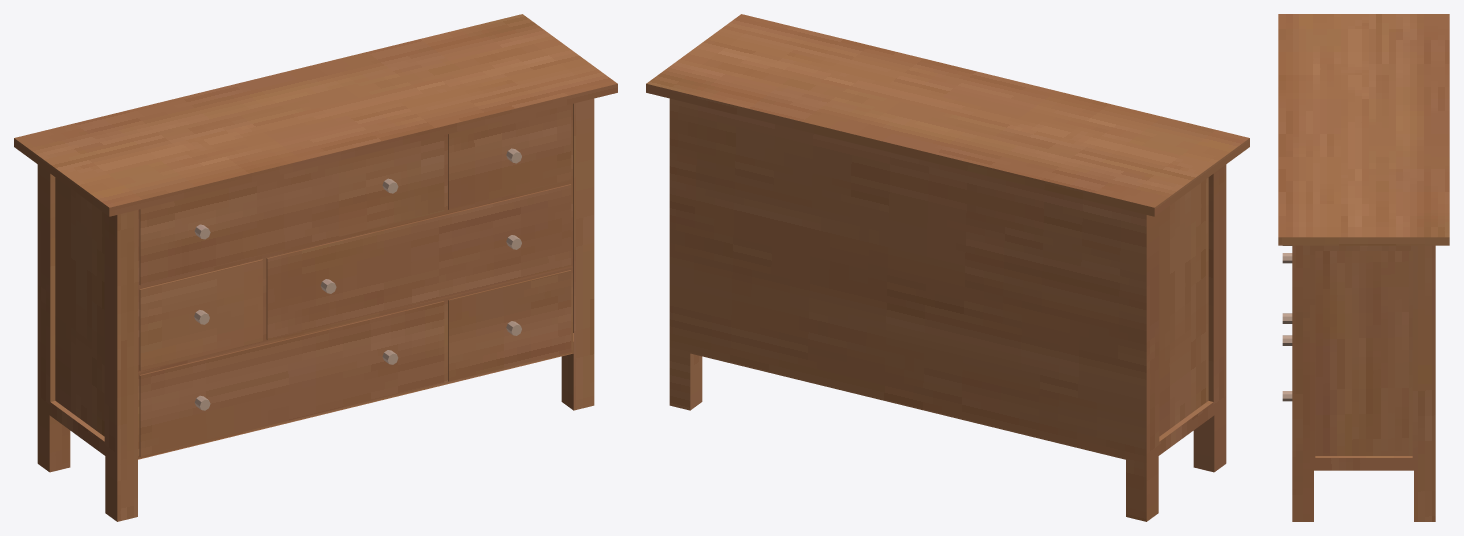
The model's file is dresser-webp.glb.
3 views of the same model, side by side, from view 1: azimuth 30°, elevation 25°; view 2: azimuth 150°, elevation 25°; view 3: azimuth 270°, elevation 25° (orthographic). The views are drawn at different scales.
Parts seen in each view (by area): view 1: Dresser, Dresser.001; view 2: Dresser; view 3: Dresser, Dresser.001.
Boxes of the visible parts, x1=… form: Dresser: x1=14, y1=14, x2=617, y2=521; Dresser.001: x1=194, y1=148, x2=521, y2=410; Dresser: x1=646, y1=14, x2=1249, y2=521; Dresser: x1=1278, y1=14, x2=1449, y2=521; Dresser.001: x1=1282, y1=245, x2=1292, y2=401.
Bounding box in the file's own units: 1.03 × 0.6257 × 0.3338.
2 materials, 2 textured.
